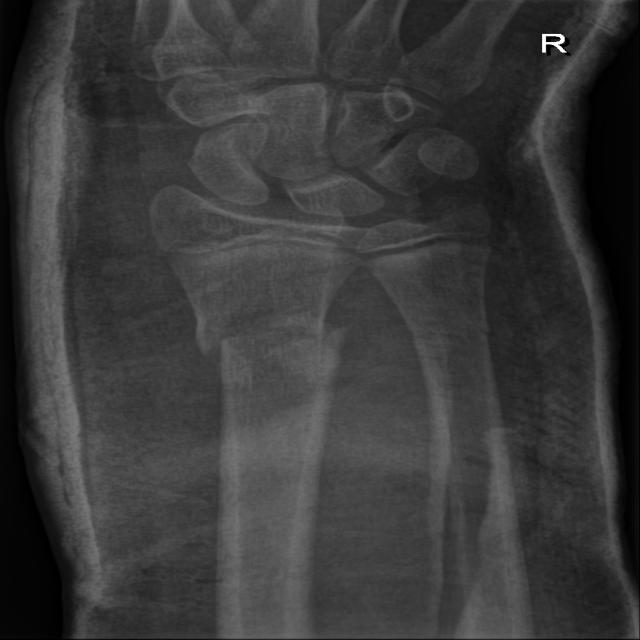radius fracture: (161, 270, 385, 449)
